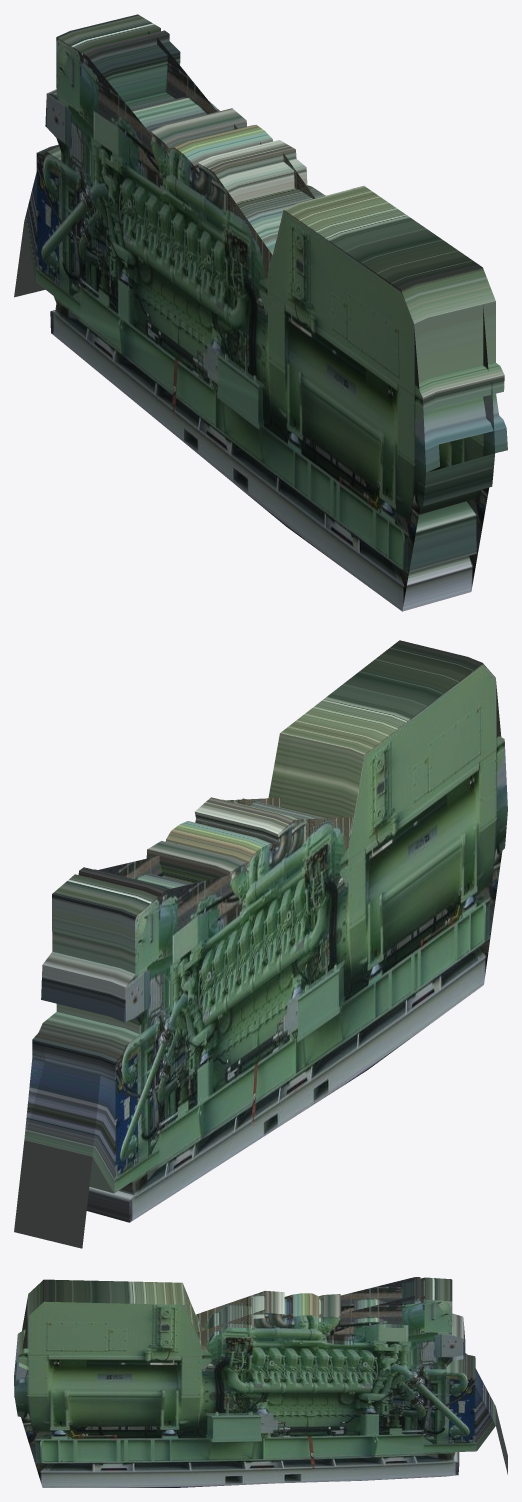
File: engine.fbx
The picture shows the model from 3 angles, top to bottom: view 1: azimuth 30°, elevation 25°; view 2: azimuth 150°, elevation 25°; view 3: azimuth 270°, elevation 25°; orthographic projection. The views are drawn at different scales.
Visible parts, largest first — view 1: diesel_gen; view 2: diesel_gen; view 3: diesel_gen.
Part boxes in pixels (x1,y1,x2,y2): diesel_gen: (14,14,507,611); diesel_gen: (14,640,507,1248); diesel_gen: (14,1277,507,1487).
Size of the model in its own units: 285 by 1084 by 2506.
